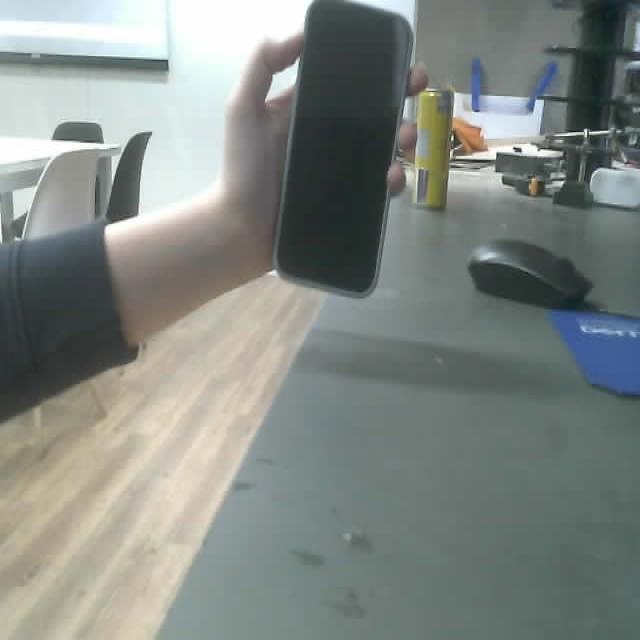phone: (273, 0, 415, 301)
